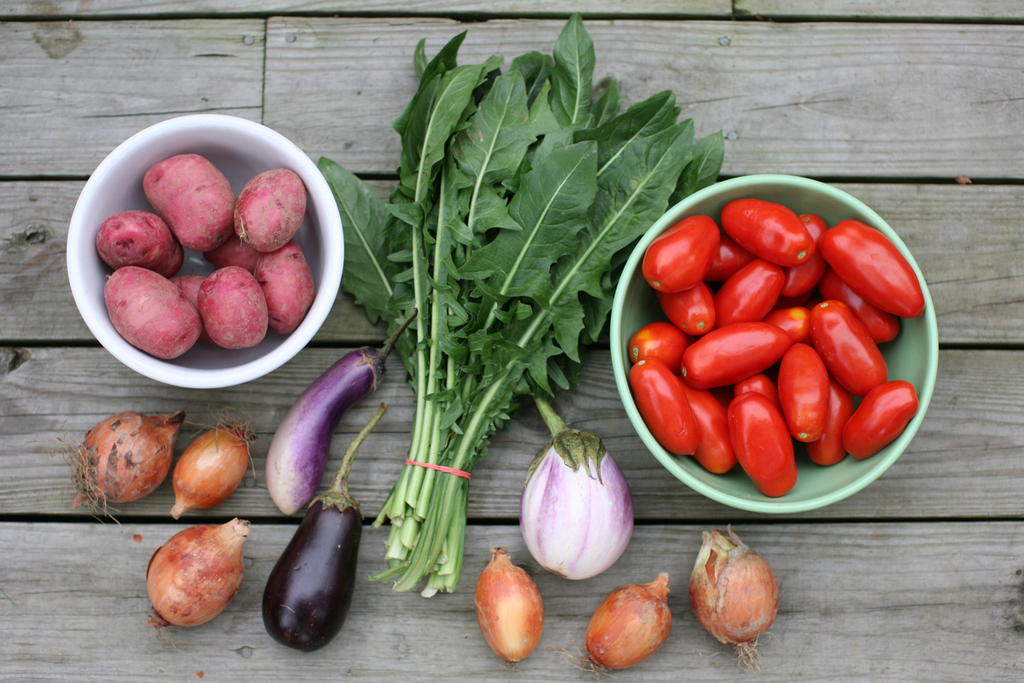Tomato: (624, 197, 924, 498), (718, 180, 842, 271), (676, 314, 793, 392)
